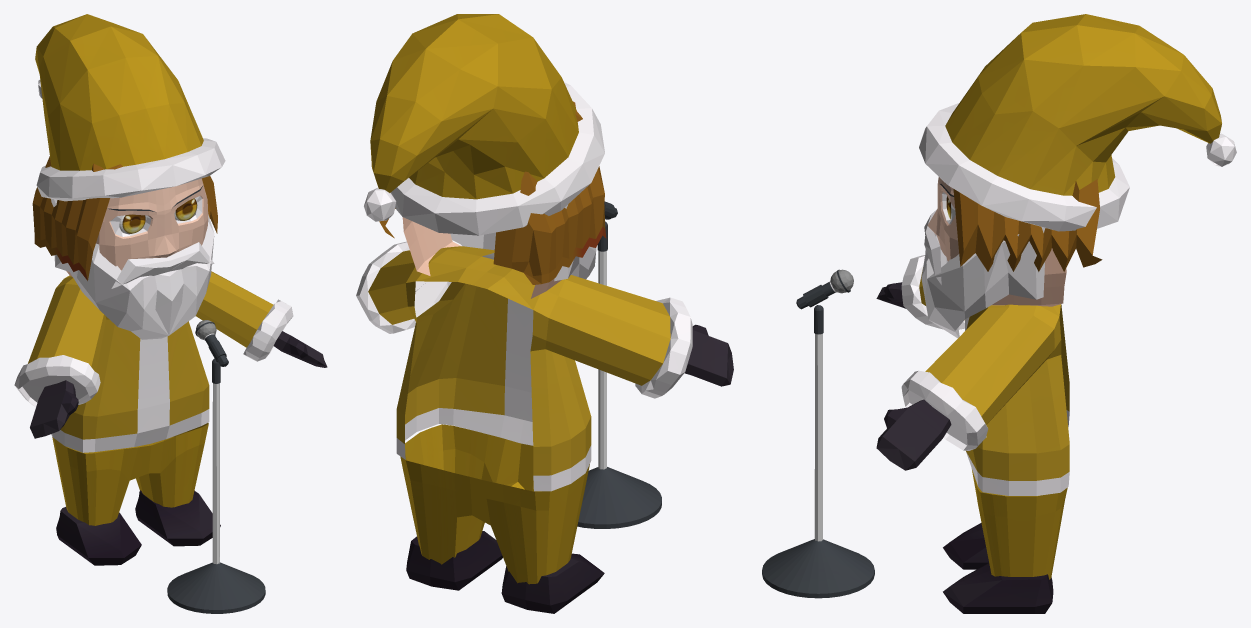
The model's file is santa_k.glb.
3 renders of one model, left to right at view 1: azimuth 30°, elevation 25°; view 2: azimuth 150°, elevation 25°; view 3: azimuth 270°, elevation 25°, orthographic. The views are drawn at different scales.
Visible parts, largest first — view 1: hontai-k, boushi-k, zubon-k, hige-k, kao-k, stand, kami-k, kutu-r-k, kutu-l-k, hanahige-k, maiku, me-r-k; view 2: hontai-k, boushi-k, zubon-k, kami-k, stand, kutu-r-k, kutu-l-k, kao-k, hige-k; view 3: boushi-k, hontai-k, stand, kami-k, hige-k, zubon-k, kutu-l-k, kao-k, kutu-r-k, maiku, hanahige-k.
Part boxes in pixels (x1,y1,x2,y2): hontai-k: [14, 271, 327, 452]; boushi-k: [35, 14, 225, 201]; zubon-k: [52, 423, 208, 525]; hige-k: [51, 198, 214, 339]; kao-k: [66, 178, 208, 277]; stand: [167, 358, 265, 613]; kami-k: [32, 156, 217, 280]; kutu-r-k: [56, 507, 141, 565]; kutu-l-k: [135, 490, 220, 546]; hanahige-k: [111, 242, 214, 288]; maiku: [196, 320, 228, 366]; me-r-k: [119, 214, 146, 234]; hontai-k: [356, 241, 733, 491]; boushi-k: [364, 14, 604, 235]; zubon-k: [400, 424, 589, 584]; kami-k: [379, 101, 606, 284]; stand: [577, 221, 661, 528]; kutu-r-k: [501, 553, 604, 613]; kutu-l-k: [406, 531, 502, 590]; kao-k: [402, 217, 561, 298]; hige-k: [450, 205, 596, 281]; boushi-k: [919, 14, 1236, 231]; hontai-k: [876, 255, 1069, 495]; stand: [762, 305, 874, 598]; kami-k: [953, 179, 1102, 271]; hige-k: [921, 227, 1045, 338]; zubon-k: [972, 470, 1067, 579]; kutu-l-k: [943, 563, 1053, 613]; kao-k: [927, 177, 1066, 306]; kutu-r-k: [943, 523, 988, 569]; maiku: [796, 269, 853, 309]; hanahige-k: [924, 209, 941, 284].
Size of the model in its own units: 5.64 by 8.99 by 6.93.
17 materials, 16 textured.
